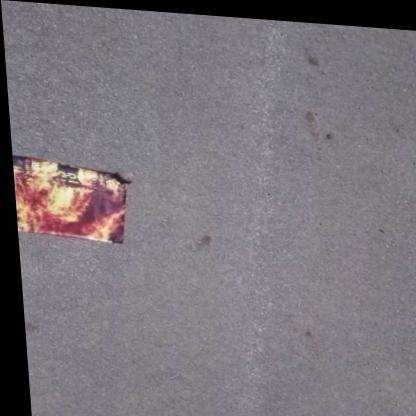fire-poster: (10, 154, 133, 244)
